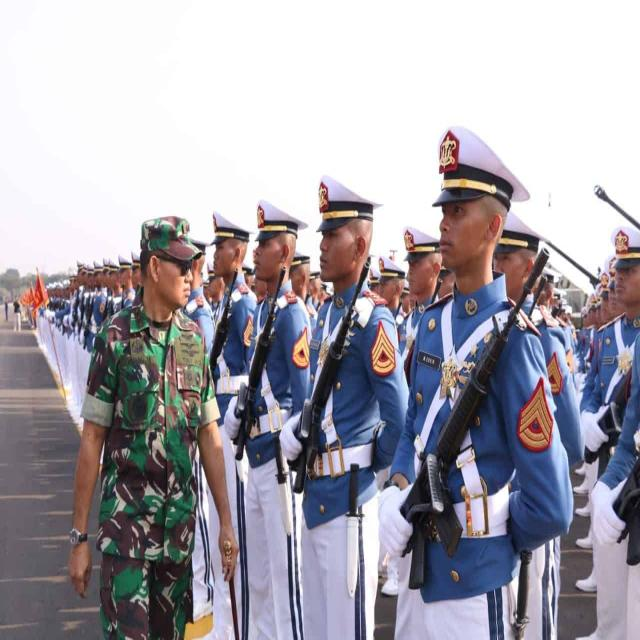peserta: (391, 116, 575, 640), (285, 165, 400, 640), (240, 200, 310, 640), (577, 206, 640, 639), (200, 204, 255, 640), (489, 211, 565, 342), (396, 209, 441, 387), (369, 239, 404, 319), (583, 261, 615, 345), (71, 255, 103, 317), (291, 247, 317, 314), (112, 245, 132, 308), (125, 247, 143, 299), (106, 251, 120, 309), (100, 253, 110, 315), (58, 278, 70, 308), (46, 278, 56, 308)
